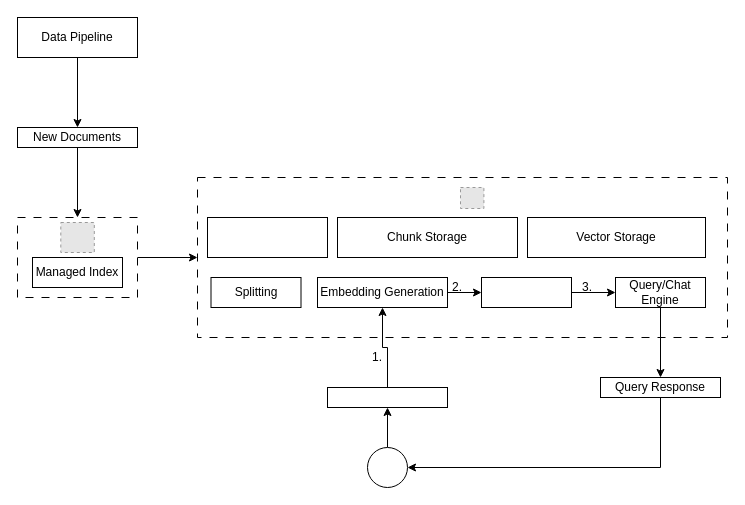
Some shapes in this 745 by 505 pixel diagram are drawn without their labels. Grey dashed boxes stand in for pictures. The centre of each missing label's shape, as x and y in pixels:
"Document Storage" goes at point 267,237.
"Query" goes at point 387,397.
"Retrieval" goes at point 526,292.
"User" goes at point 387,467.
